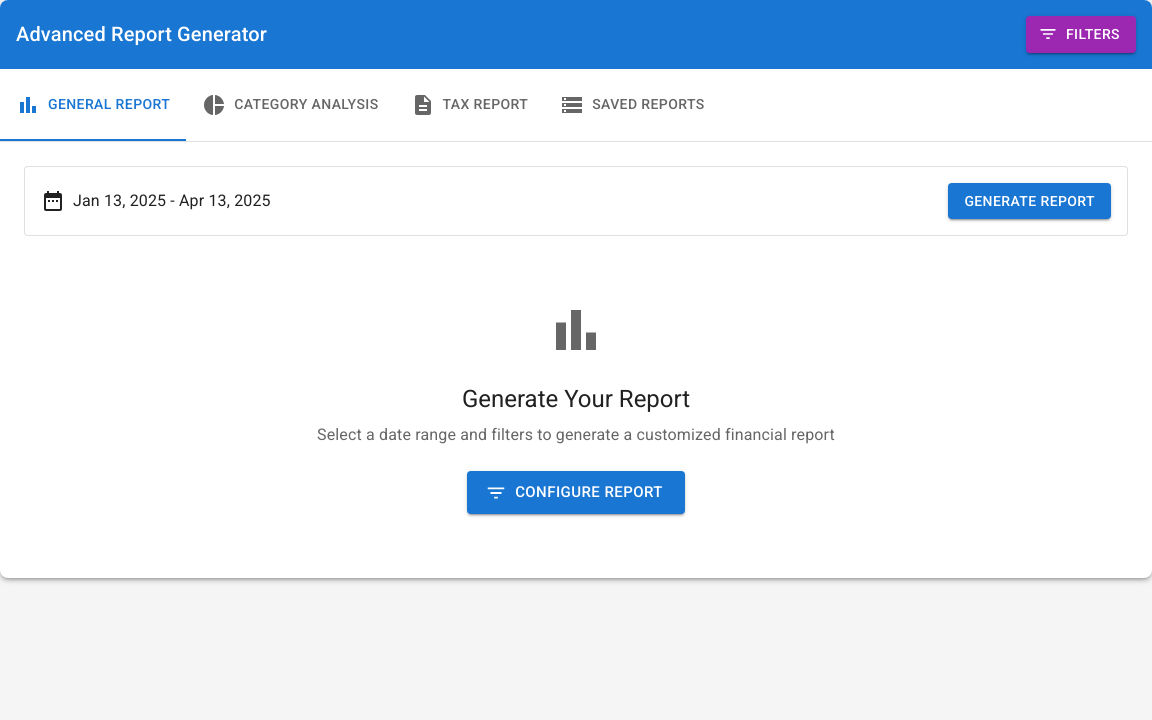
Test: AdvancedReportGenerator Component › opens filters drawer when filters button is clicked
The width and height of the screenshot is (1152, 720).
# Find and click the Filters button
Click the button "Filters".
click(1081, 34)  # box left=1026, top=16, right=1136, bottom=52
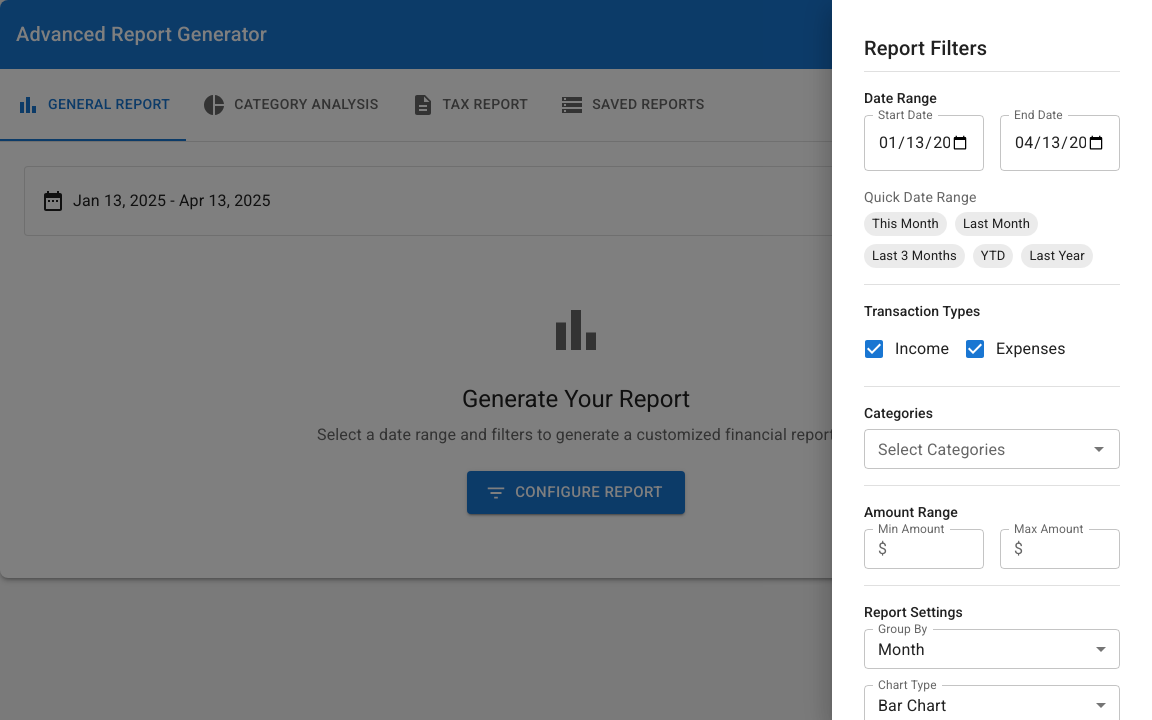
Check: the heading "Report Filters" is shown, box left=864, top=36, right=987, bottom=60
Check: the heading "Date Range" is shown, box left=864, top=90, right=937, bottom=106
Check: the heading "Transaction Types" is shown, box left=864, top=303, right=980, bottom=319
